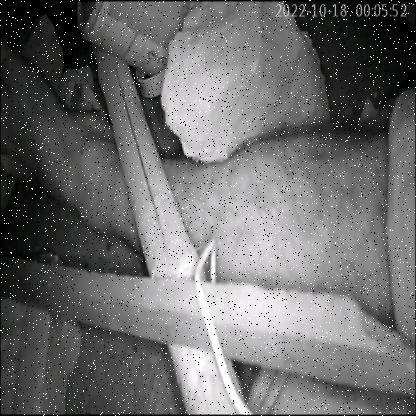leg: (0, 32, 416, 303)
